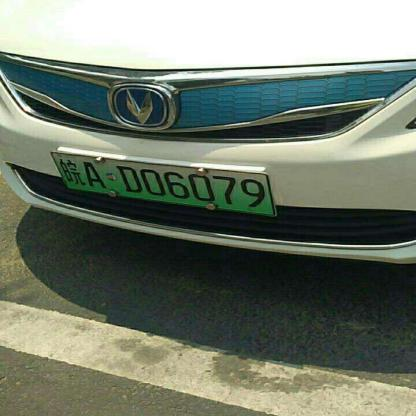lp: (51, 153, 69, 216)
